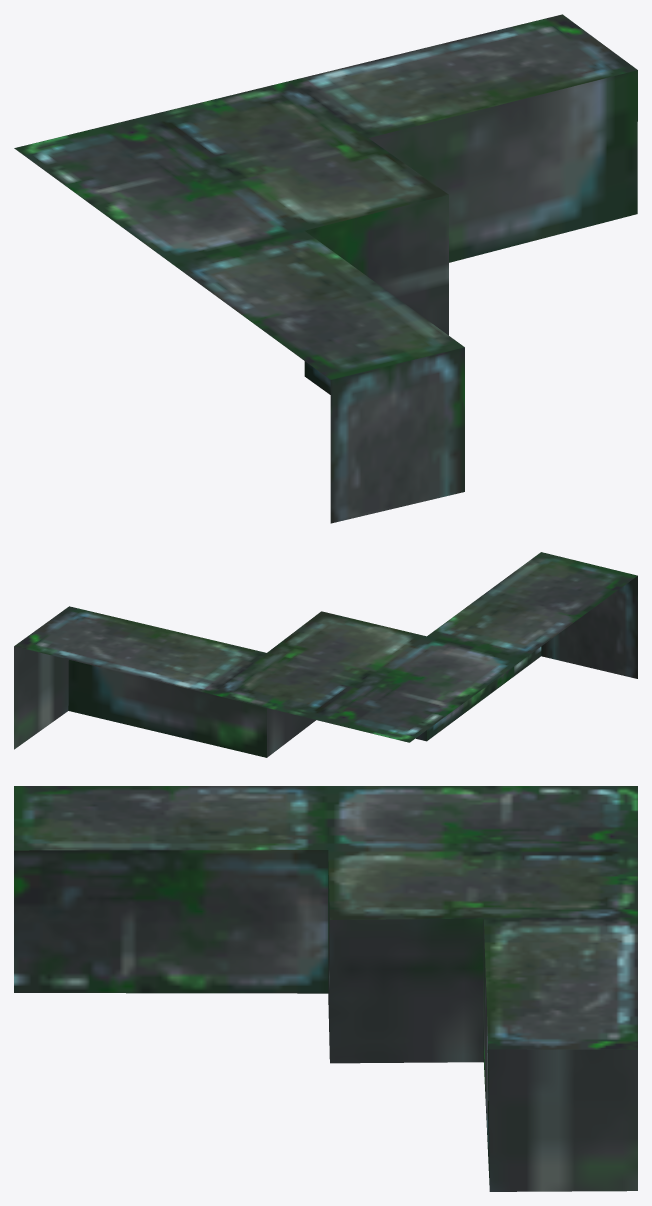
Rendered from stemple_floor_concave_03a.fbx.
3 renders of one model, top to bottom at view 1: azimuth 30°, elevation 25°; view 2: azimuth 150°, elevation 25°; view 3: azimuth 270°, elevation 25°, orthographic. The views are drawn at different scales.
Parts seen in each view (by area): view 1: obj1.093; view 2: obj1.093; view 3: obj1.093.
Part boxes in pixels (x1,y1,x2,y2): obj1.093: [14, 14, 637, 523]; obj1.093: [14, 552, 637, 757]; obj1.093: [14, 786, 637, 1191].
Bounding box in the file's own units: 2 × 0.5074 × 2.
